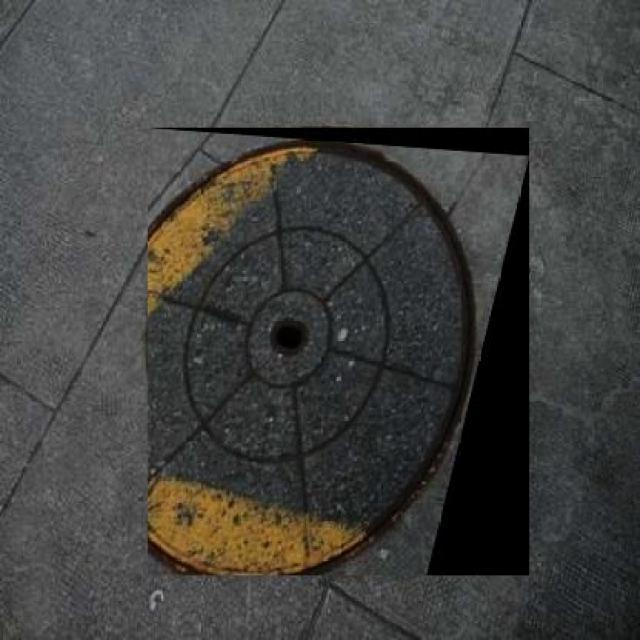Manhole: (148, 128, 530, 576)
